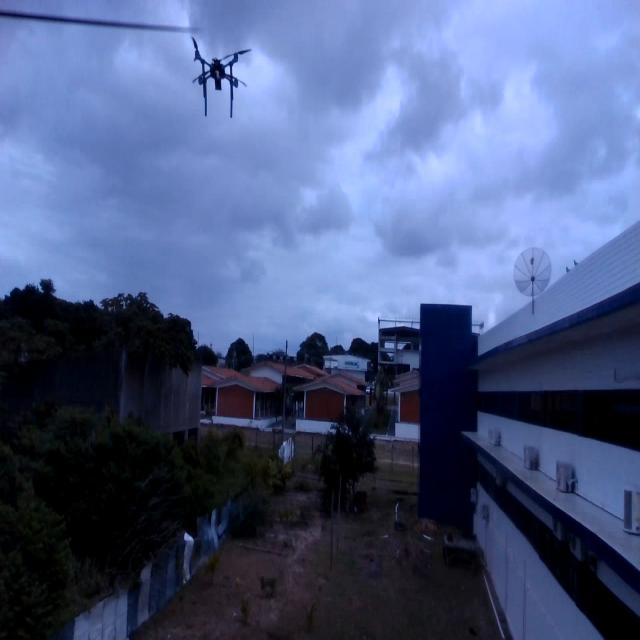-uav-: (184, 25, 257, 135)
